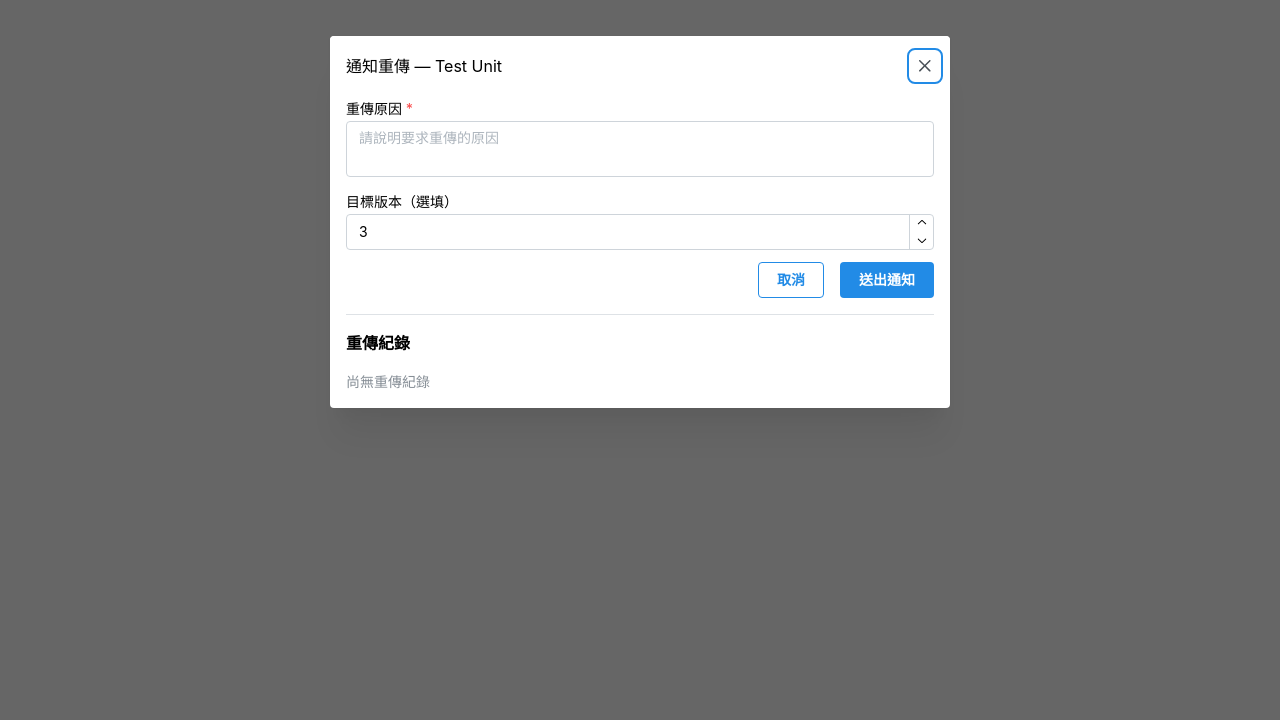
Test case: ResubmitModal › shows ErrorDisplay on NOTIFY_002 error
The width and height of the screenshot is (1280, 720).
Type "Some reason" into the text box with placeholder "請說明要求重傳的原因" at (640, 149), box x1=346 y1=121 x2=934 y2=177
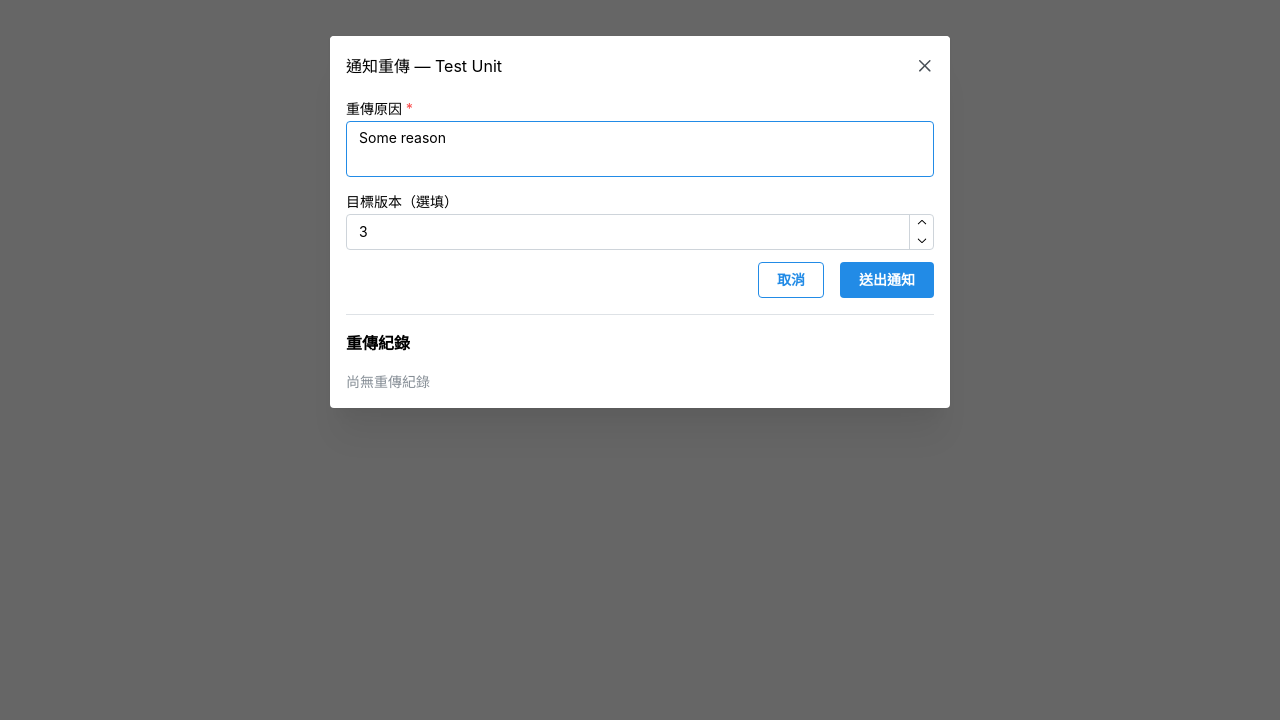
Click the button "送出通知" at (887, 280), box x1=840 y1=262 x2=934 y2=298
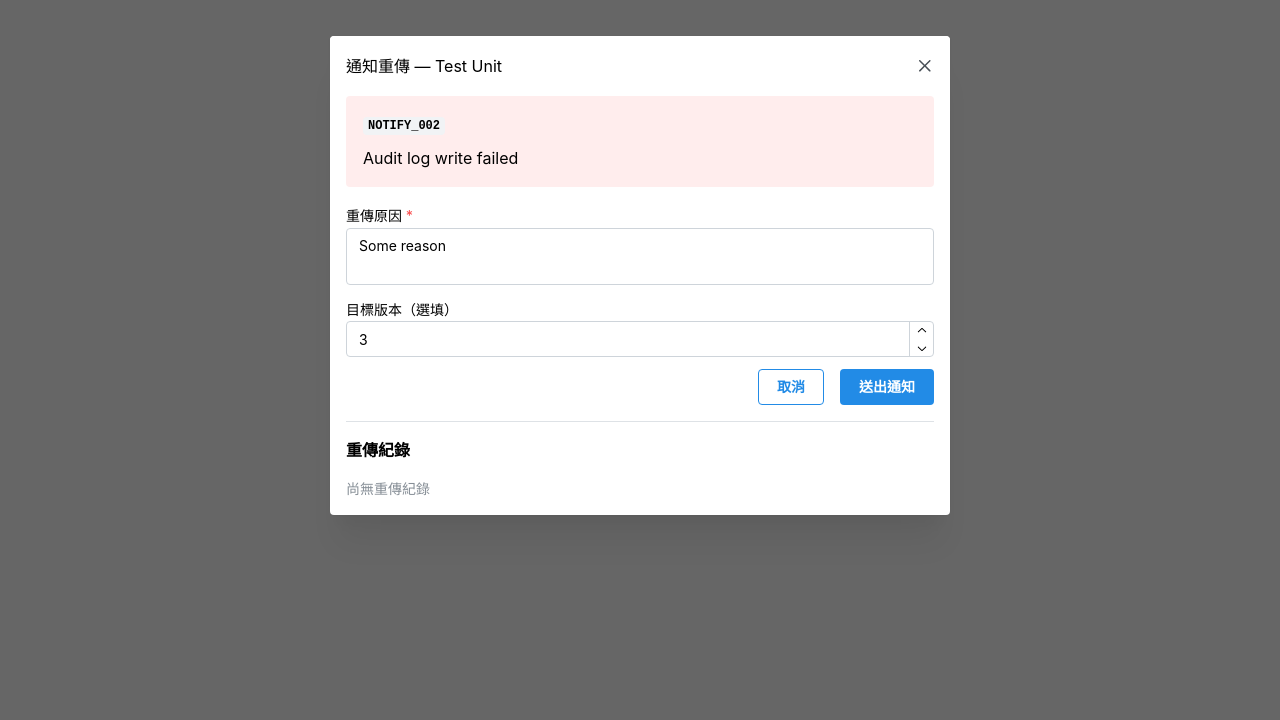
Expected: the text "NOTIFY_002" is shown, x1=363 y1=117 x2=445 y2=135
